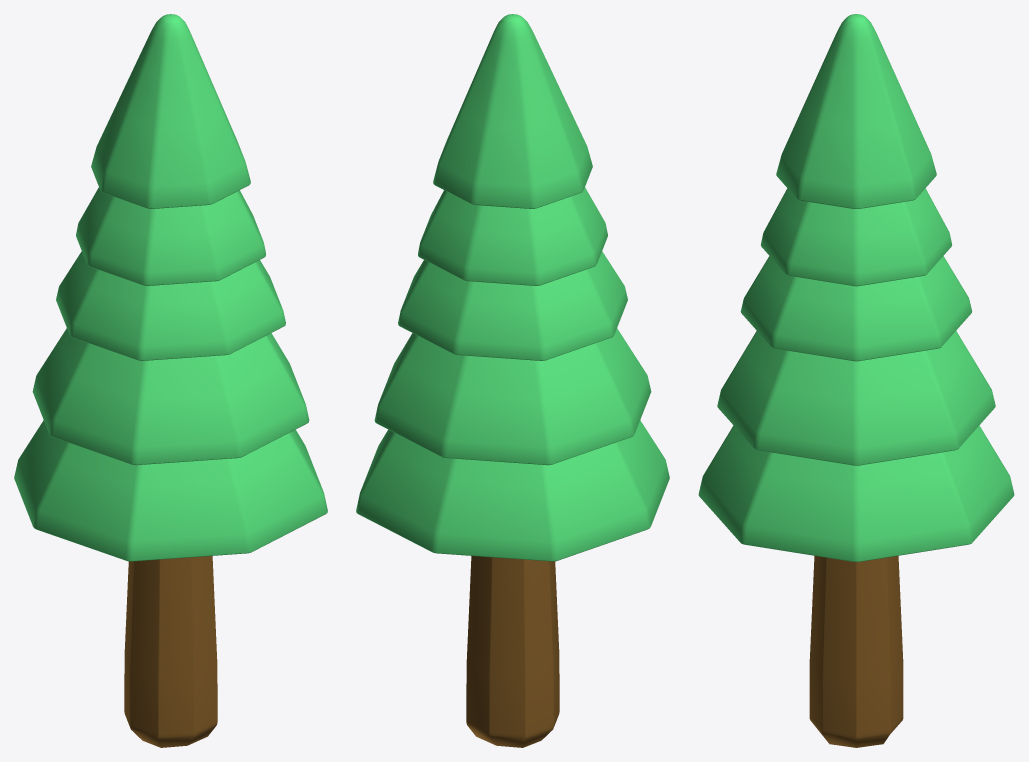
File: 로우폴리나무.fbx
3 renders of one model, left to right at view 1: azimuth 30°, elevation 25°; view 2: azimuth 150°, elevation 25°; view 3: azimuth 270°, elevation 25°, orthographic.
Parts seen in each view (by area): view 1: Cube; view 2: Cube; view 3: Cube.
Boxes of the visible parts, bbox=[...] form: Cube: bbox=[14, 14, 327, 747]; Cube: bbox=[356, 14, 669, 747]; Cube: bbox=[698, 14, 1014, 747].
Size of the model in its own units: 1113 by 2804 by 1113.
